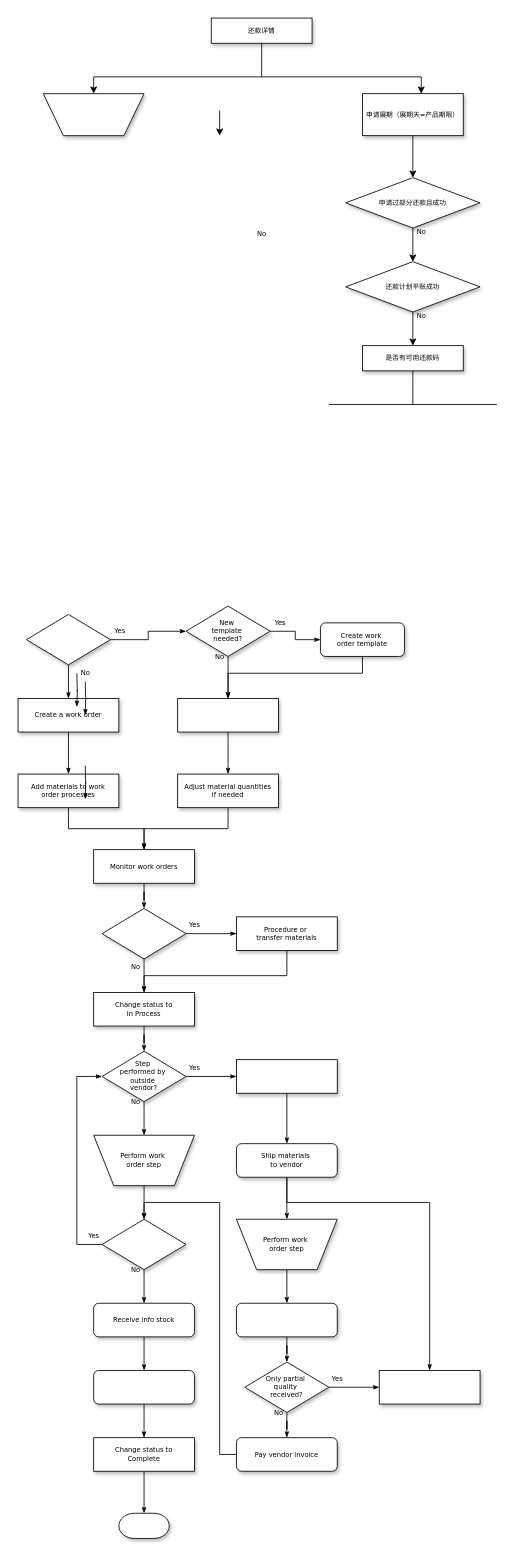
Some shapes in this 512 by 1559 pixel diagram are drawn without their labels. Here are the shapes that lost their labels. From the top down, the centre of each, then its label:
At (x=94, y=115): "还款".
At (x=69, y=640): "Frequently performed process?".
At (x=228, y=716): "Copy template to work order".
At (x=144, y=934): "Material quantities not in stock?".
At (x=287, y=1077): "Add or adjust vendor costs".
At (x=144, y=1245): "Additional processing required?".
At (x=287, y=1321): "Receive product from vendor".
At (x=144, y=1388): "Ship product on order if needed".
At (x=430, y=1388): "Create work order backorder".
At (x=144, y=1526): "End".
